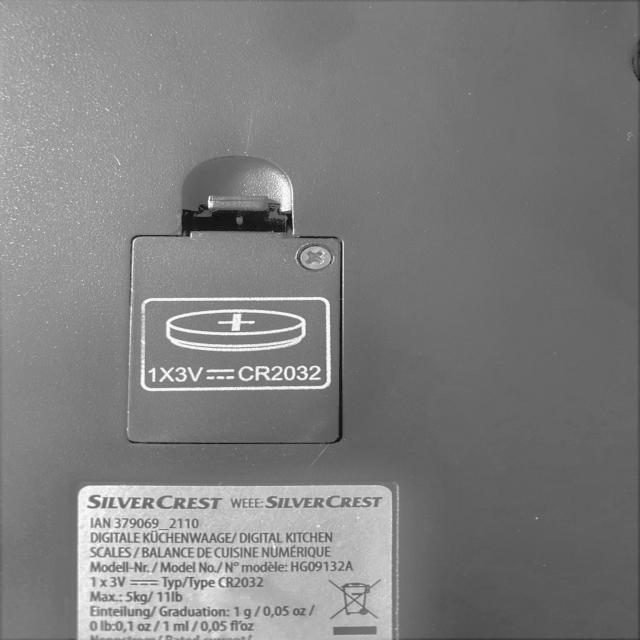PhillipsScrewHead: (298, 245, 334, 271)
